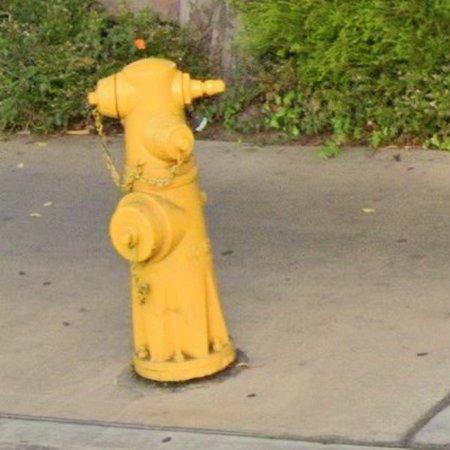a fire hydrant: (88, 58, 236, 382)
